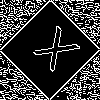X: (24, 24, 81, 81)
